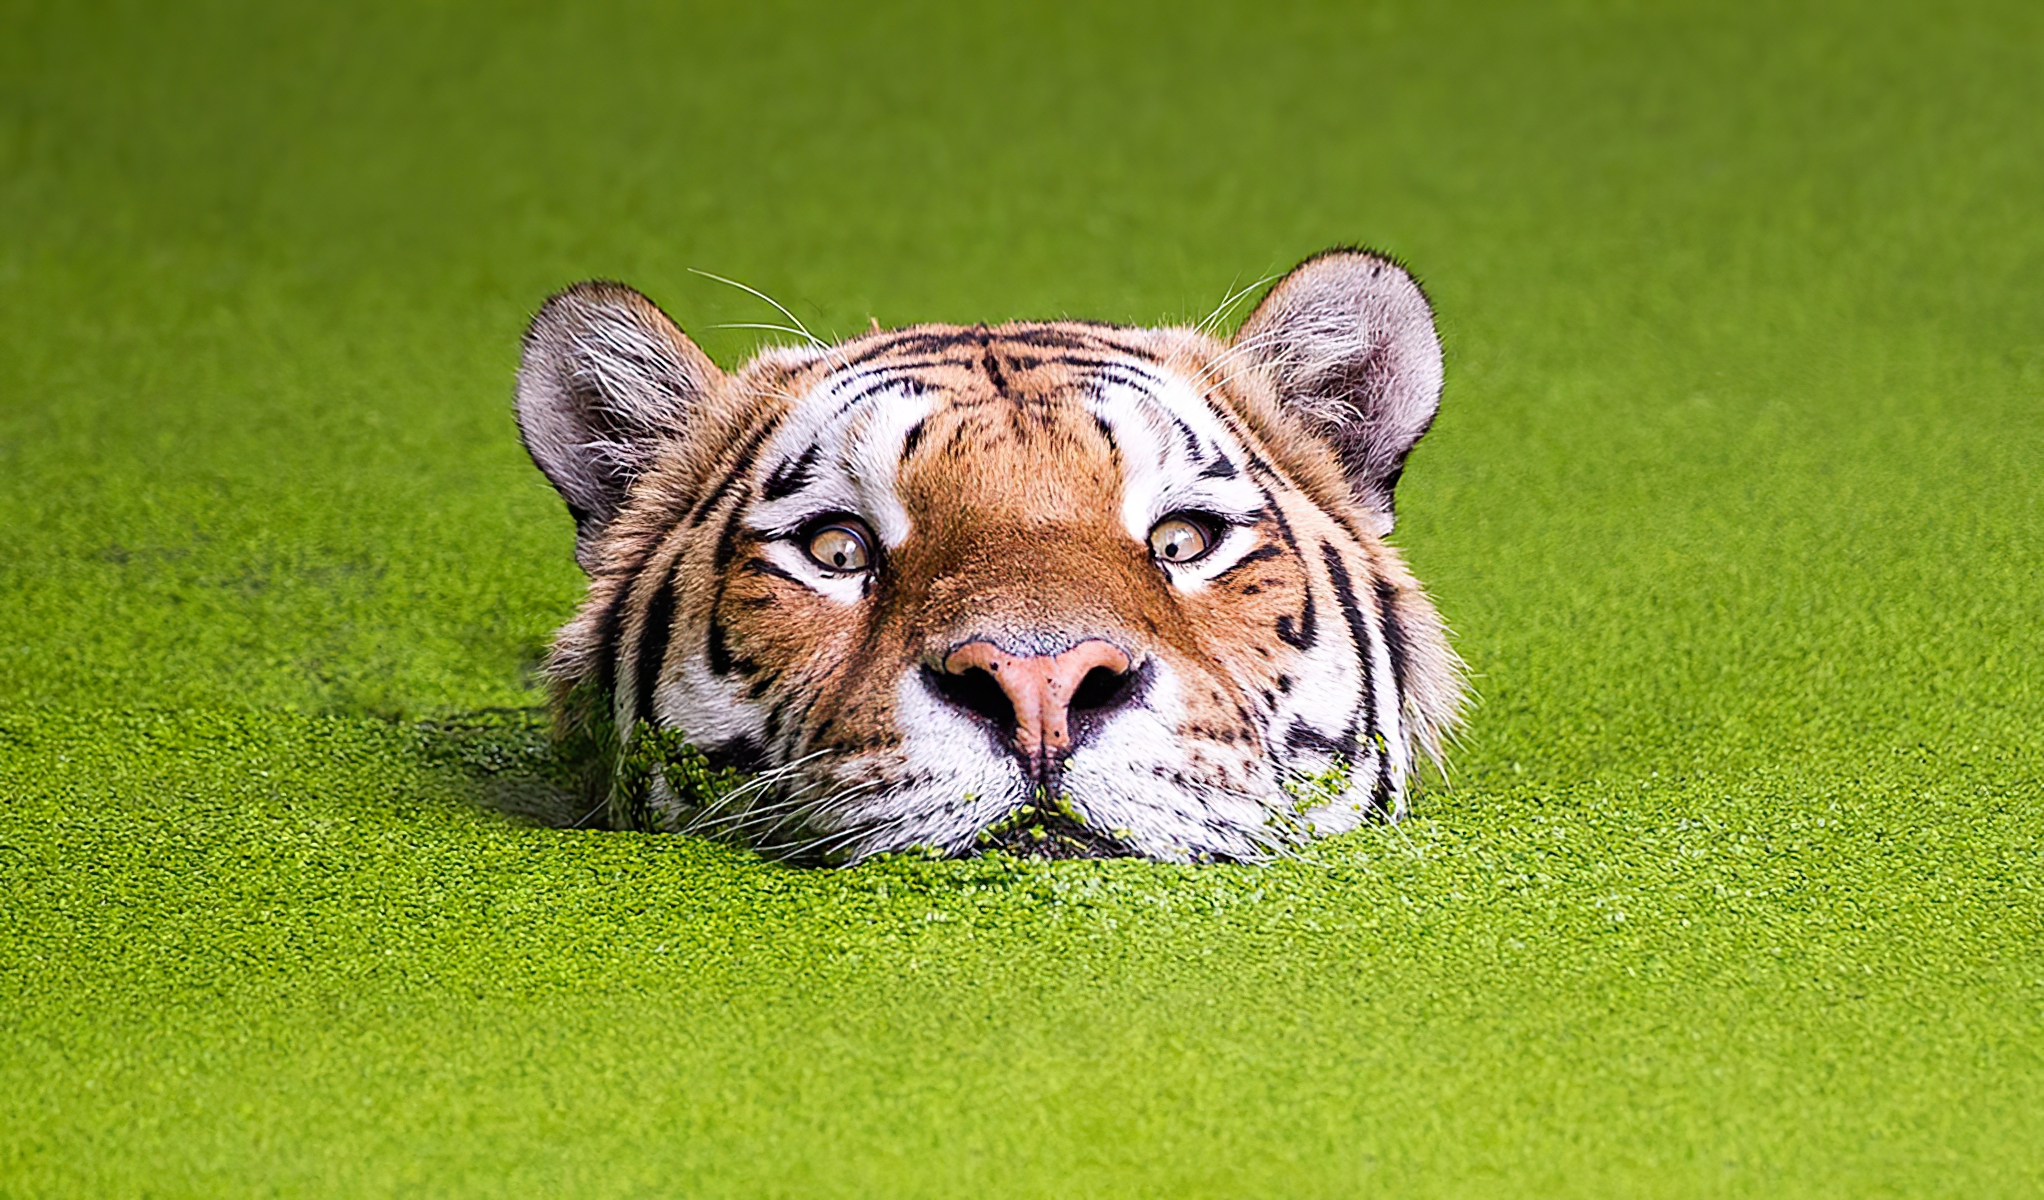tiger: (464, 270, 1537, 921)
